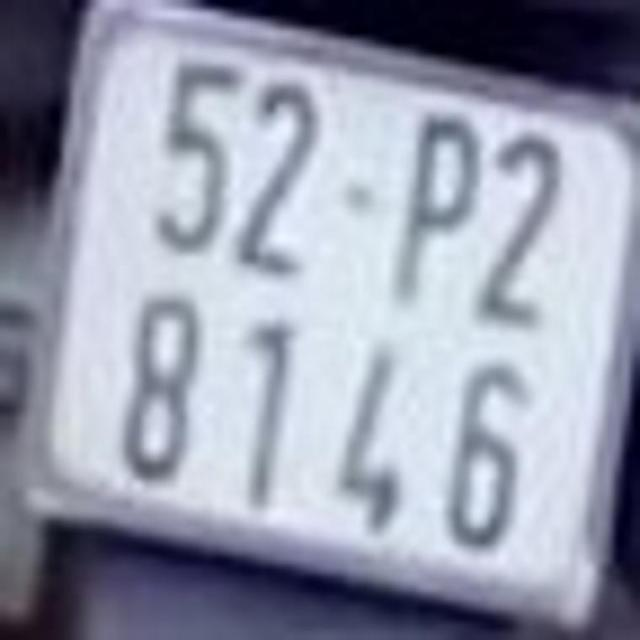1: (237, 313, 294, 506)
2: (242, 84, 322, 276), (490, 124, 562, 333)
4: (340, 350, 410, 540)
5: (161, 54, 242, 260)
6: (445, 364, 535, 550)
8: (128, 295, 199, 488)
P: (393, 114, 481, 314)
